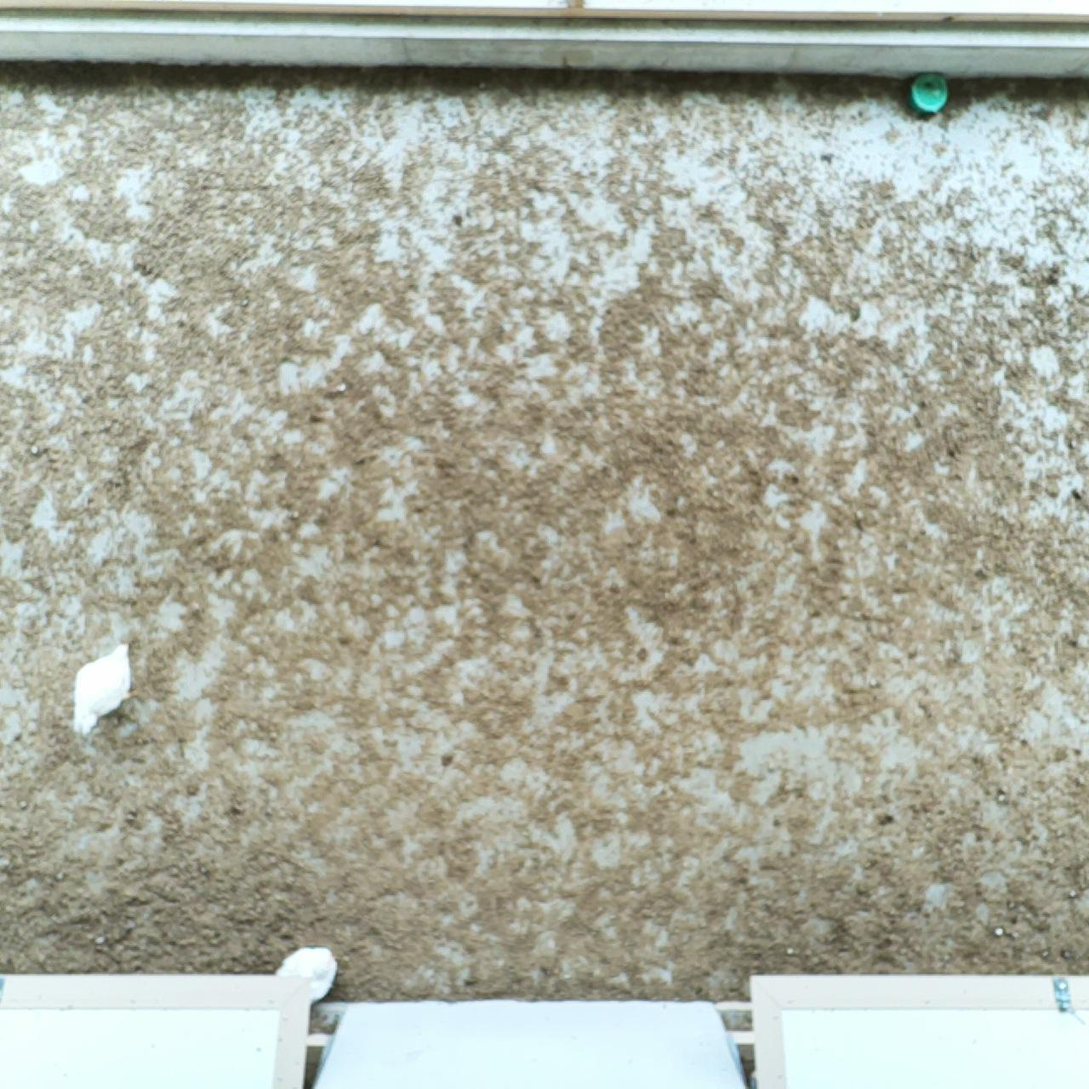chicken: (68, 634, 140, 740), (264, 941, 351, 1004)
